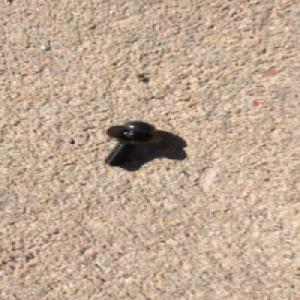BoltWasher: (102, 119, 163, 167)
